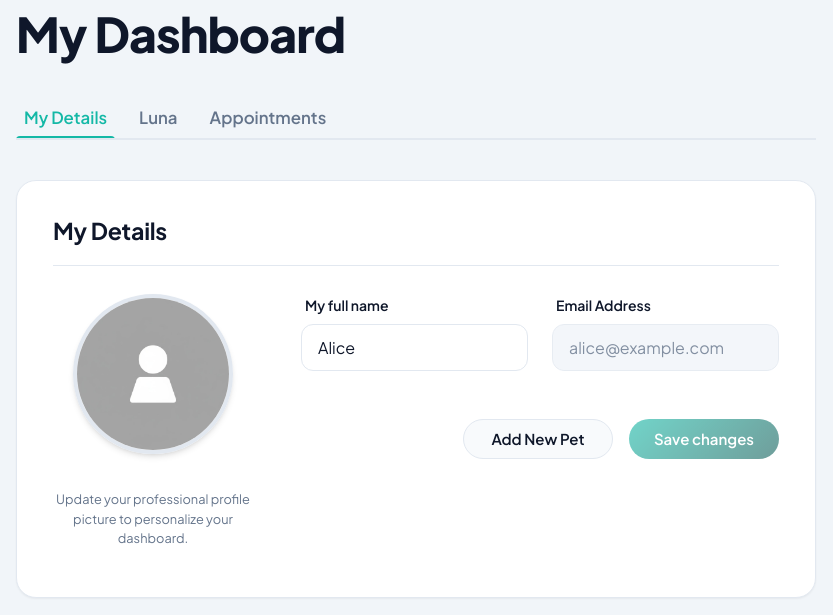
Test case: OwnerDashboardPage › switching to appointments tab shows Book New Appointment button
Click the button "Appointments" at (268, 117), box [202, 95, 334, 140]
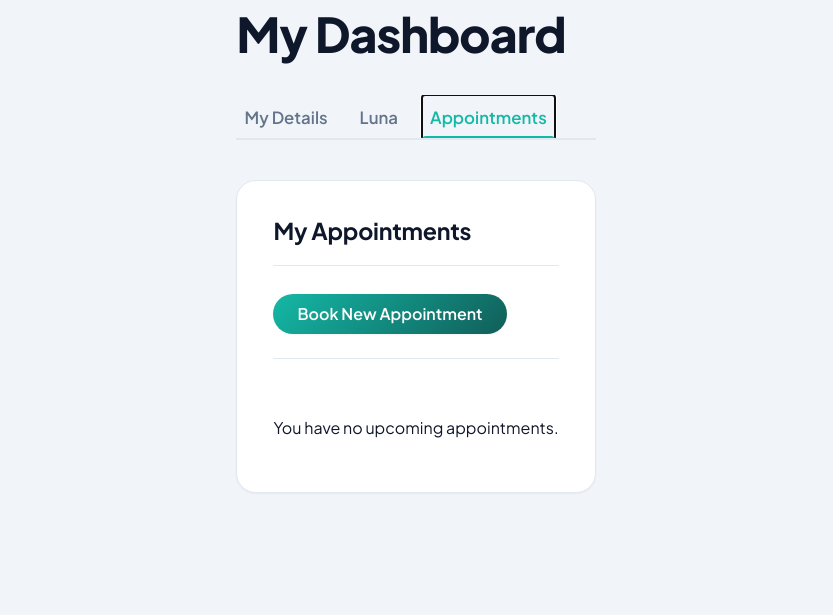
Now the button "Book New Appointment" is shown, box [274, 294, 507, 334]
